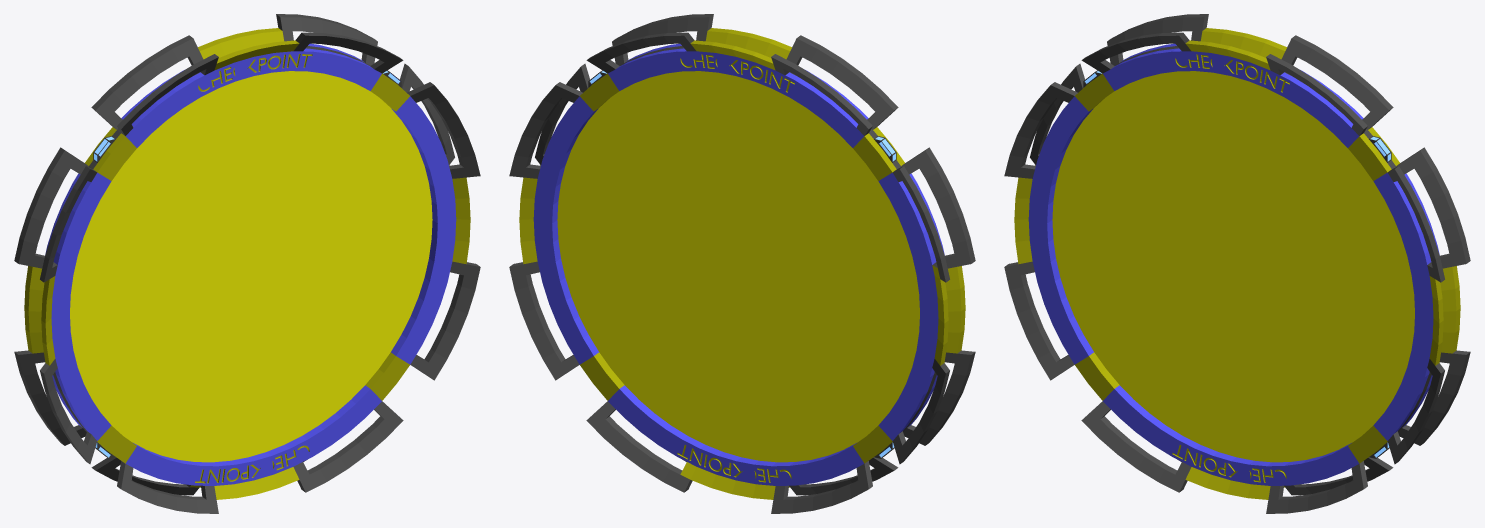
The model's file is Checkpoint_ring_Checkpoint.fbx.
3 views of the same model, side by side, from view 1: azimuth 30°, elevation 25°; view 2: azimuth 150°, elevation 25°; view 3: azimuth 330°, elevation 25° (orthographic).
Parts seen in each view (by area): view 1: Semi-transparent checkpoint inside, Checkpoint Ring; view 2: Semi-transparent checkpoint inside, Checkpoint Ring; view 3: Semi-transparent checkpoint inside, Checkpoint Ring.
Boxes of the visible parts, x1,y1,x2,y2 form: Semi-transparent checkpoint inside: (70,71,432,462); Checkpoint Ring: (14,14,480,513); Semi-transparent checkpoint inside: (557,71,919,462); Checkpoint Ring: (509,14,975,513); Semi-transparent checkpoint inside: (1052,71,1414,462); Checkpoint Ring: (1004,14,1470,513).
Bounding box in the file's own units: 5934 × 5934 × 700.
